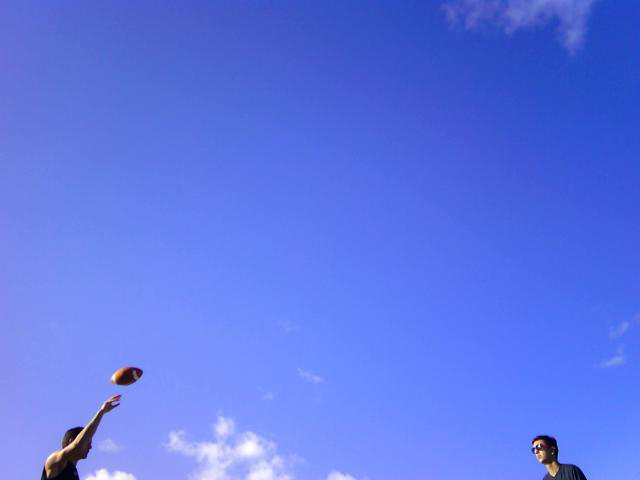football: (109, 363, 145, 389)
